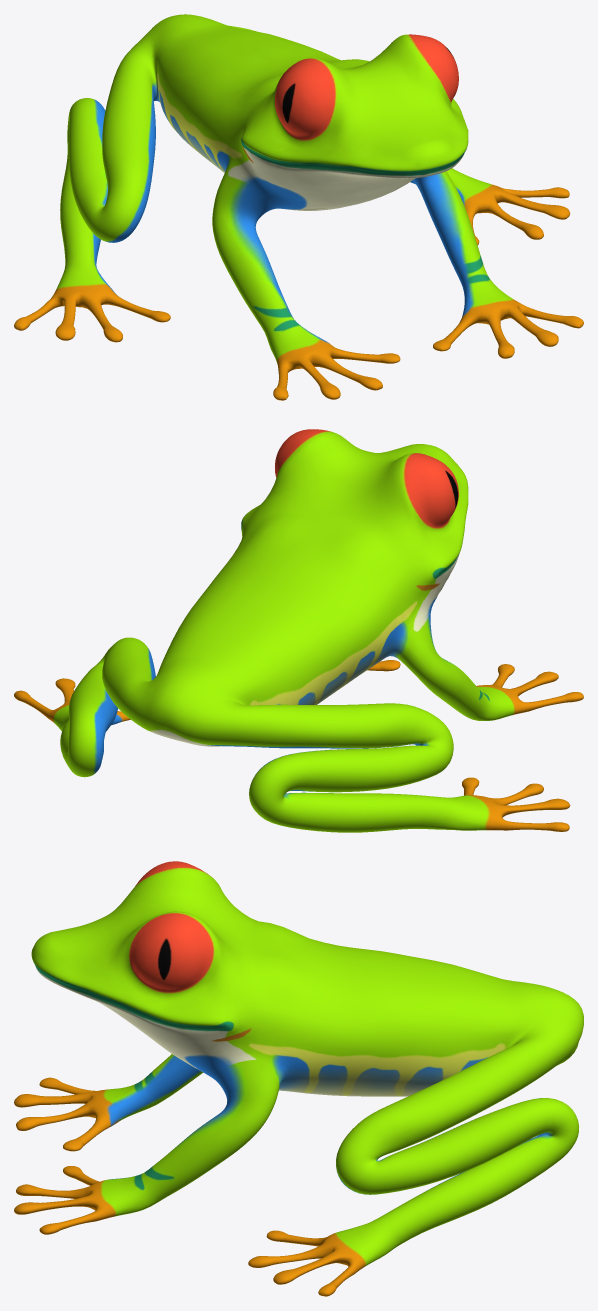
Rendered from frog.glb.
The picture shows the model from 3 angles, top to bottom: view 1: azimuth 30°, elevation 25°; view 2: azimuth 150°, elevation 25°; view 3: azimuth 270°, elevation 25°; orthographic projection.
Parts seen in each view (by area): view 1: frog.1; view 2: frog.1; view 3: frog.1.
Part boxes in pixels (x1=…): frog.1: x1=14, y1=14, x2=583, y2=400; frog.1: x1=14, y1=429, x2=583, y2=832; frog.1: x1=14, y1=861, x2=583, y2=1296.
Size of the model in its own units: 0.0274 by 0.0127 by 0.024.
Materials: 1 (1 with a texture image).
